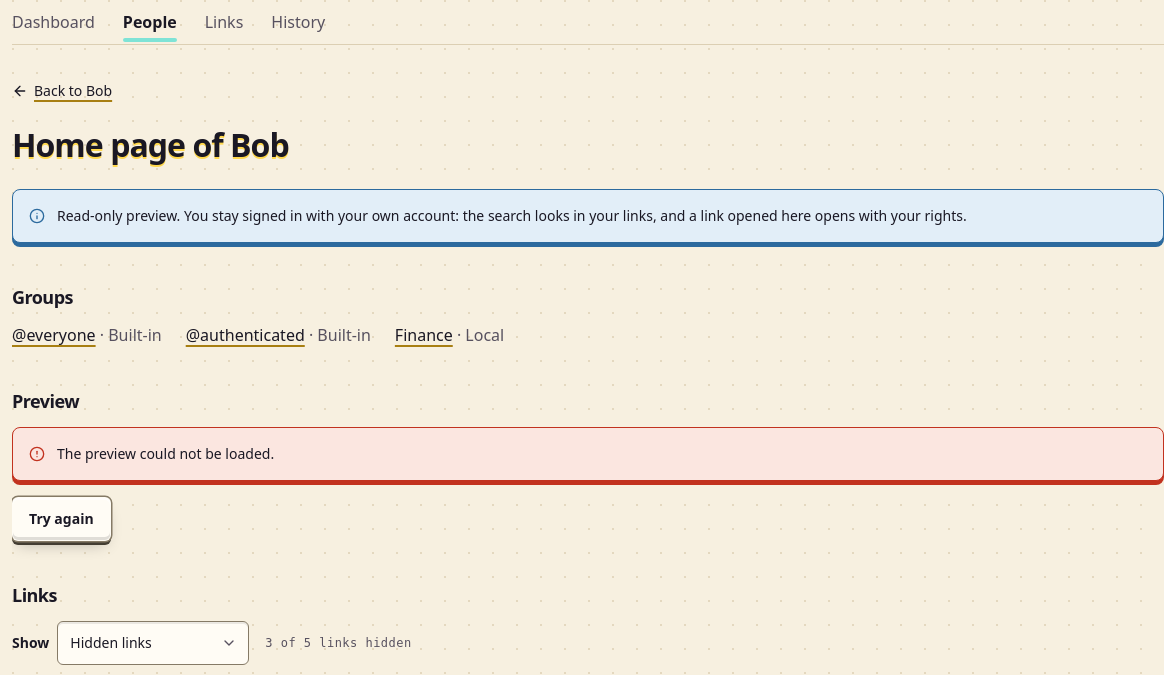
Test: PersonPreview › shows a failed preview with a retry
Expected: the text "The preview could not be loaded." is shown, [57,444,274,463]
Click the button "Try again": (61, 519) [12,497,111,541]
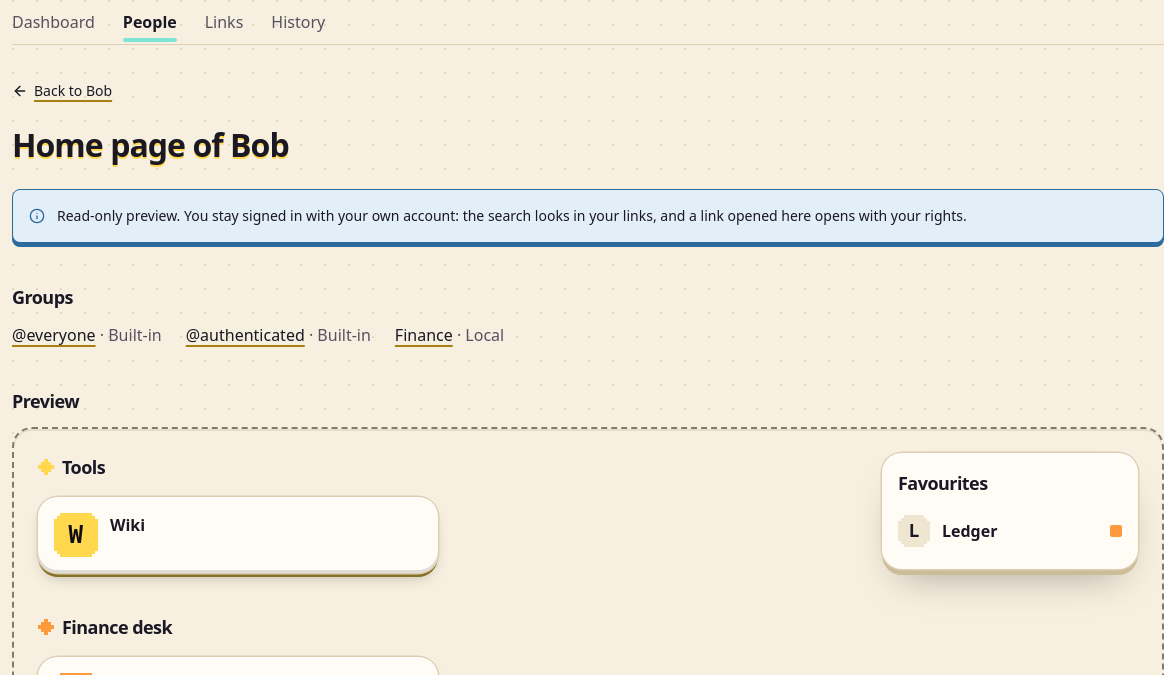
Now the heading "Tools" is shown, box [38,453,105,481]
